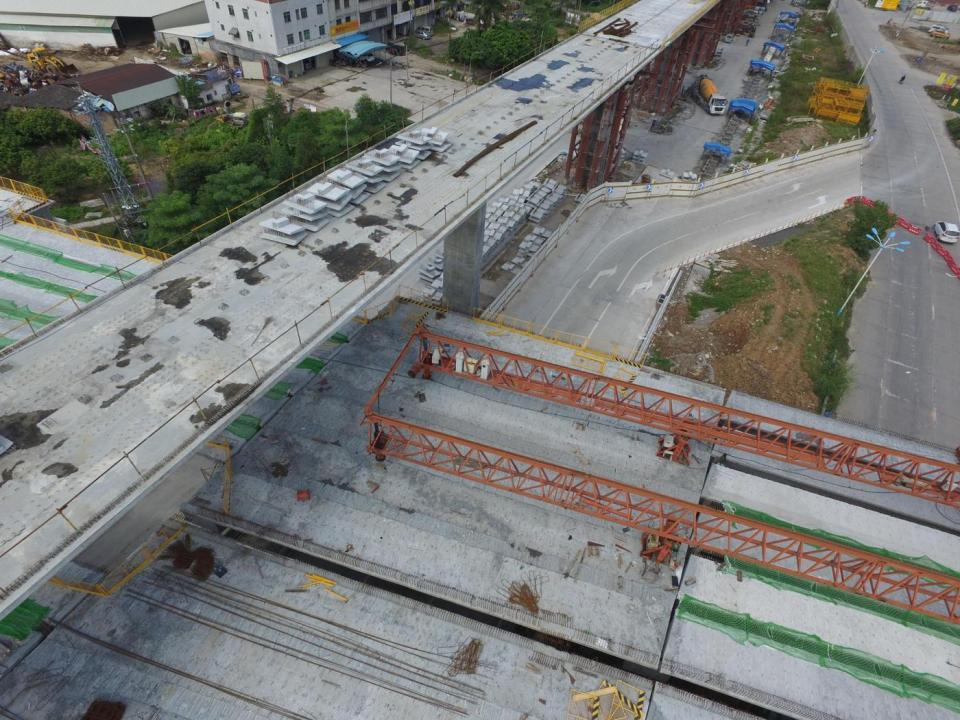car: (933, 220, 960, 244), (353, 52, 375, 62), (416, 26, 433, 36), (933, 29, 949, 39), (413, 32, 430, 39), (947, 4, 958, 12)
truck: (692, 77, 726, 115), (916, 1, 932, 10)
van: (293, 58, 312, 72), (932, 24, 948, 35), (725, 33, 734, 42)
